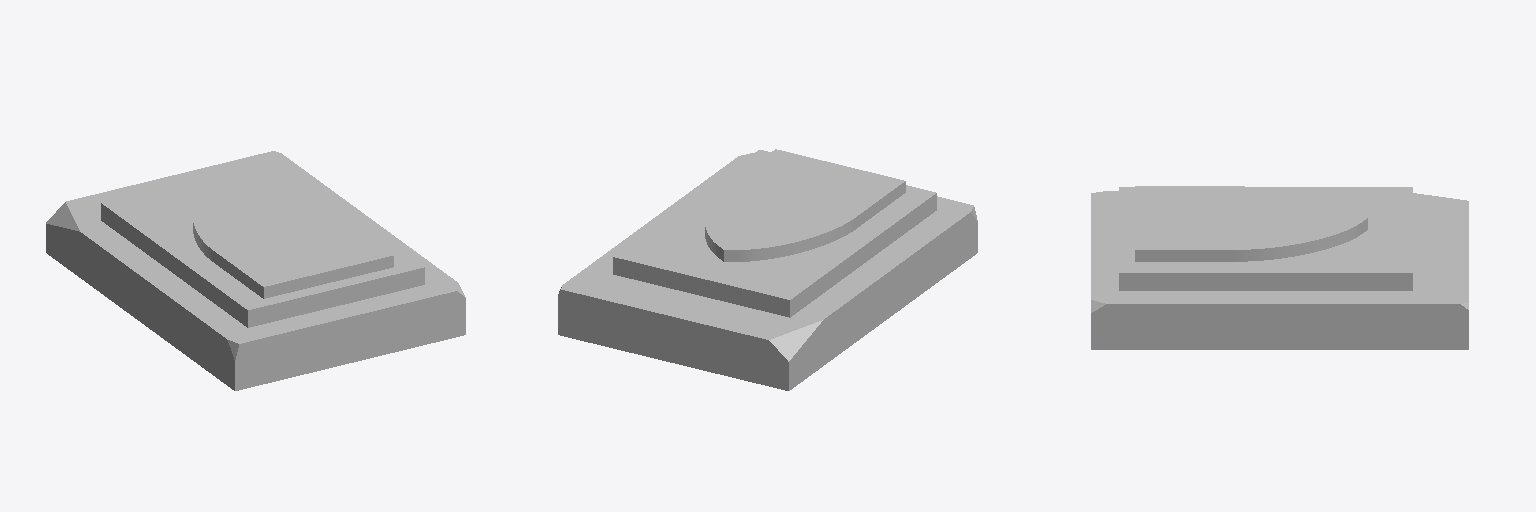
The model's file is Grabstein03_LP.obj.
The picture shows the model from 3 angles: view 1: azimuth 30°, elevation 25°; view 2: azimuth 150°, elevation 25°; view 3: azimuth 270°, elevation 25°; orthographic projection.
Visible parts, largest first — view 1: Grabstein03_LP; view 2: Grabstein03_LP; view 3: Grabstein03_LP.
Boxes of the visible parts, <box> form: Grabstein03_LP: <box>46,151,465,390</box>; Grabstein03_LP: <box>558,149,977,390</box>; Grabstein03_LP: <box>1091,186,1468,349</box>.
Bounding box in the file's own units: 3.02 × 0.9433 × 4.28.